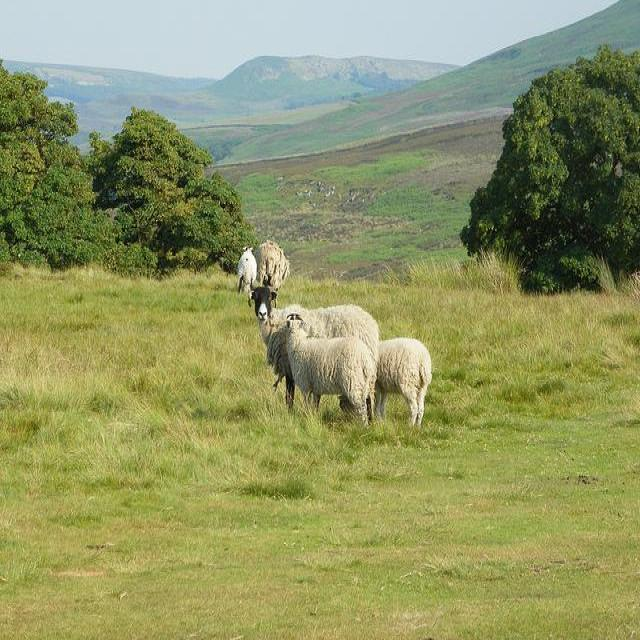Sheep: (248, 288, 380, 415), (286, 313, 375, 431), (375, 338, 433, 426), (254, 242, 290, 290)
